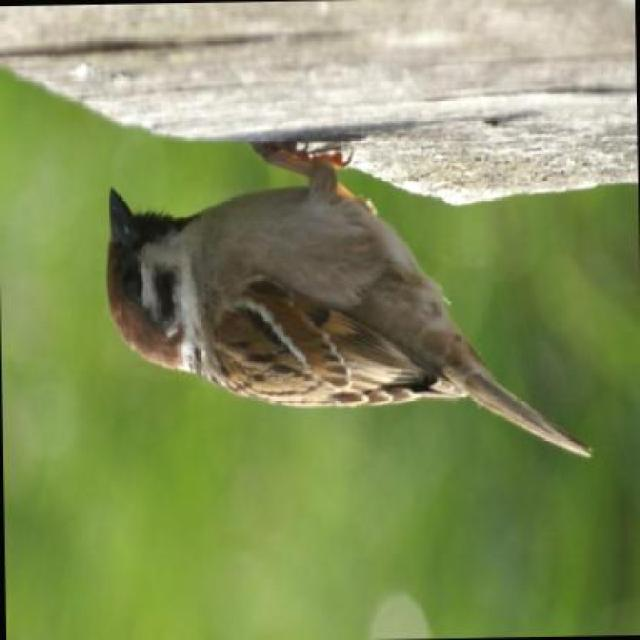sparrow: (112, 68, 593, 467)
